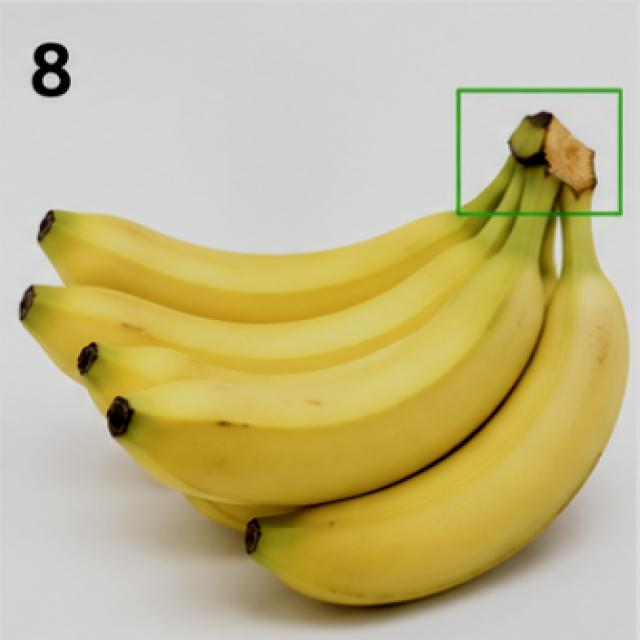Fruit-Stem-Detection: (461, 105, 601, 267), (462, 88, 621, 215)
